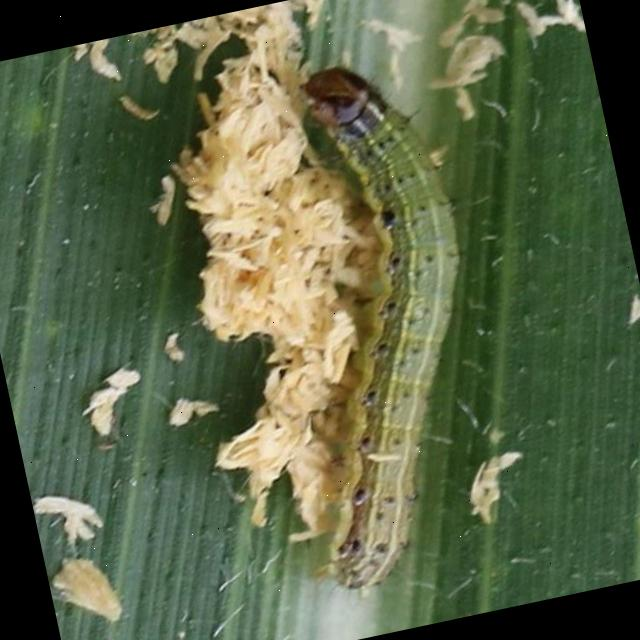worm: (215, 46, 532, 601)
